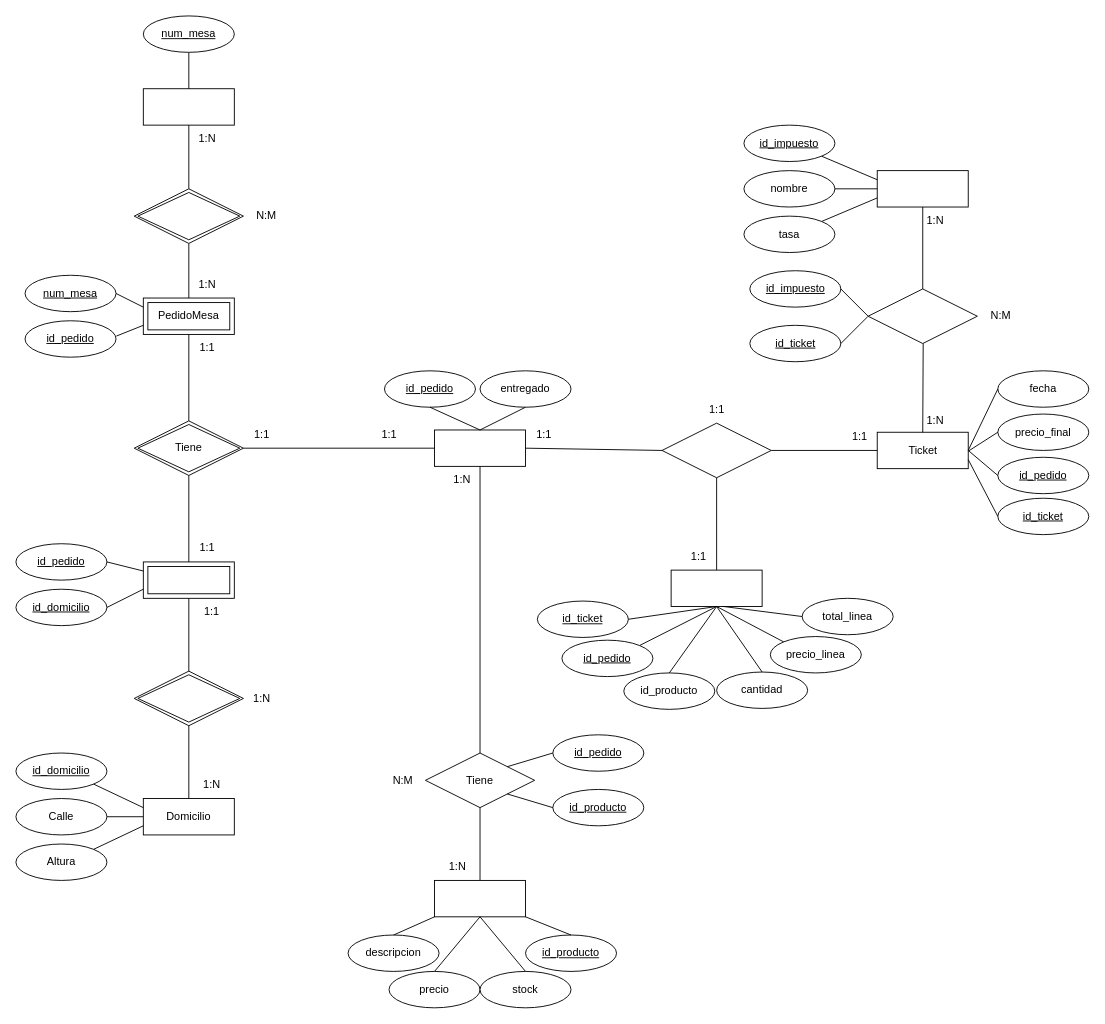
Some shapes in this 1105 by 1024 pixel diagram are drawn without their labels. Each missing label, with the centre of its shape:
"Desglose_ticket" belongs at point (716, 588).
"Genera" belongs at point (716, 450).
"Impuesto" belongs at point (922, 188).
"Mesa" belongs at point (188, 106).
"Ordena" belongs at point (188, 698).
"Pedido" belongs at point (480, 447).
"PedidoDomicilio" belongs at point (188, 579).
"Pide" belongs at point (188, 215).
"Producto" belongs at point (480, 898).
"Tributa" belongs at point (922, 316).
